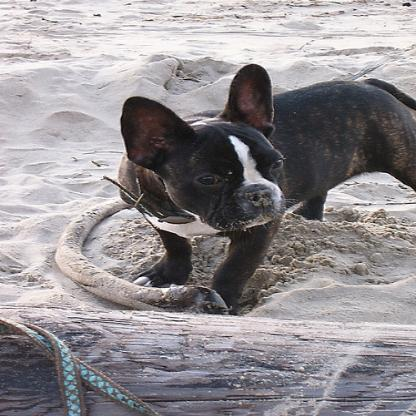French_bulldog: (112, 62, 413, 310)
